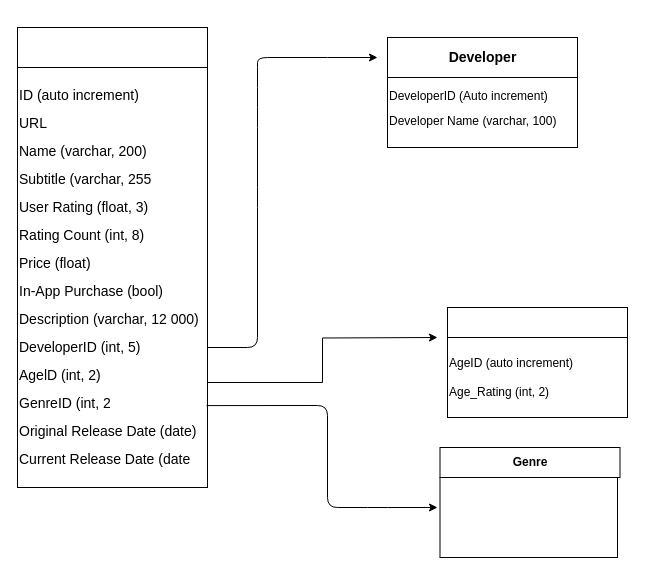
Some shapes in this 645 by 575 pixel diagram are drawn without their labels. Here are the shapes that lost their labels. From the top down, the centre of each, then its label:
point (112, 47): Game_Details
point (537, 322): Age_Rating
point (528, 517): GenreID (auto increment) Genre (varchar, 50)
